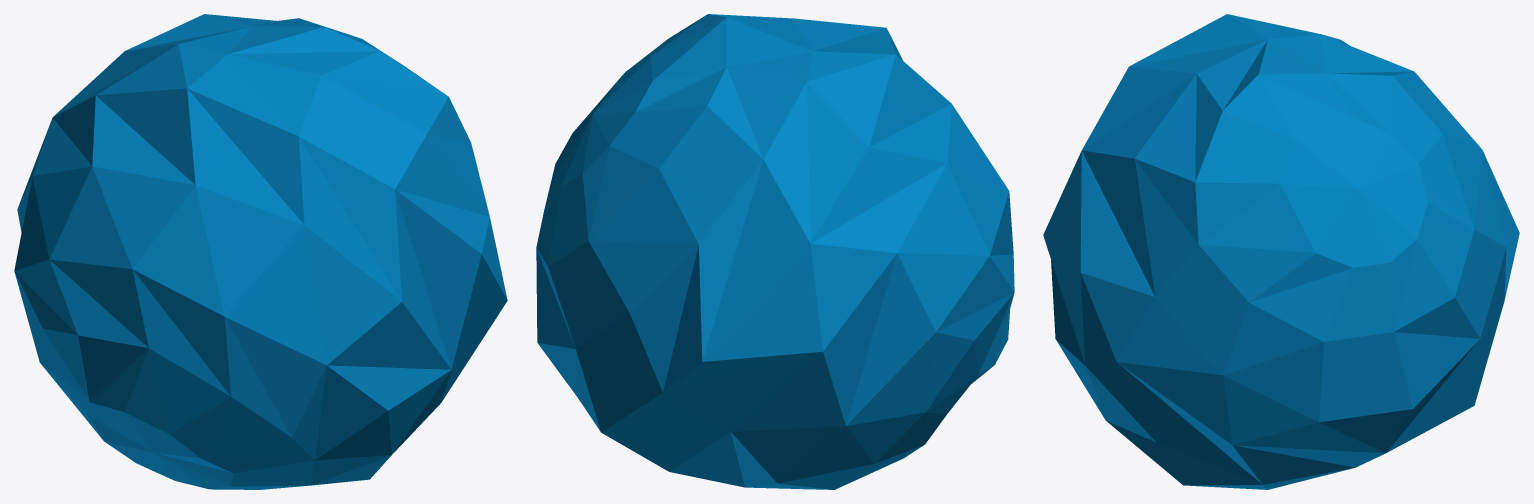
3 views of the same model, side by side, from view 1: azimuth 30°, elevation 25°; view 2: azimuth 150°, elevation 25°; view 3: azimuth 270°, elevation 25° (orthographic). The views are drawn at different scales.
Visible parts, largest first — view 1: node_MeshObject-1816553088-PolyPaper5; view 2: node_MeshObject-1816553088-PolyPaper5; view 3: node_MeshObject-1816553088-PolyPaper5.
Part boxes in pixels (left/top/right/bottom): node_MeshObject-1816553088-PolyPaper5: left=14, top=14, right=507, bottom=489; node_MeshObject-1816553088-PolyPaper5: left=536, top=14, right=1014, bottom=489; node_MeshObject-1816553088-PolyPaper5: left=1043, top=14, right=1519, bottom=489.
Size of the model in its own units: 0.5017 by 0.5041 by 0.5147.
